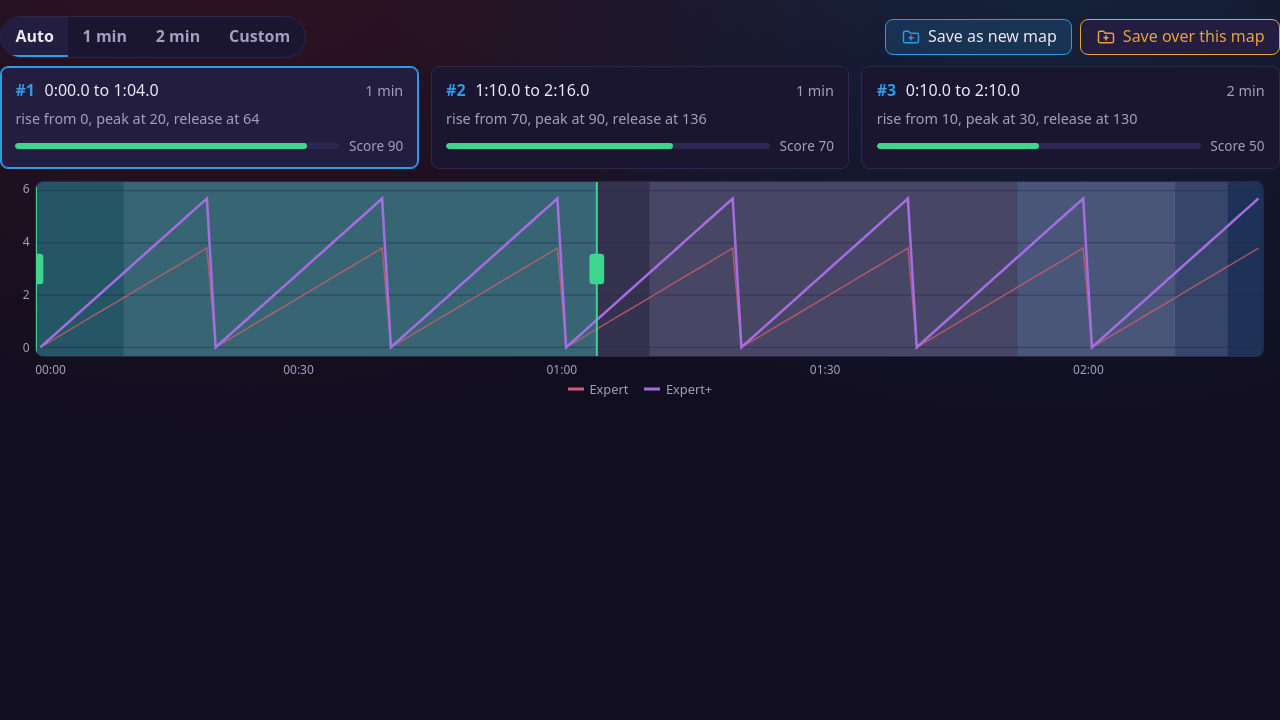
Scenario: Save over this map › Cancel posts nothing
This screenshot has width=1280, height=720.
Check: the slider labelled "Crop end" is shown, box x1=590 y1=182 x2=604 y2=356
Click the button "Save over this map".
click(1180, 37)  # box x1=1080 y1=19 x2=1279 y2=55
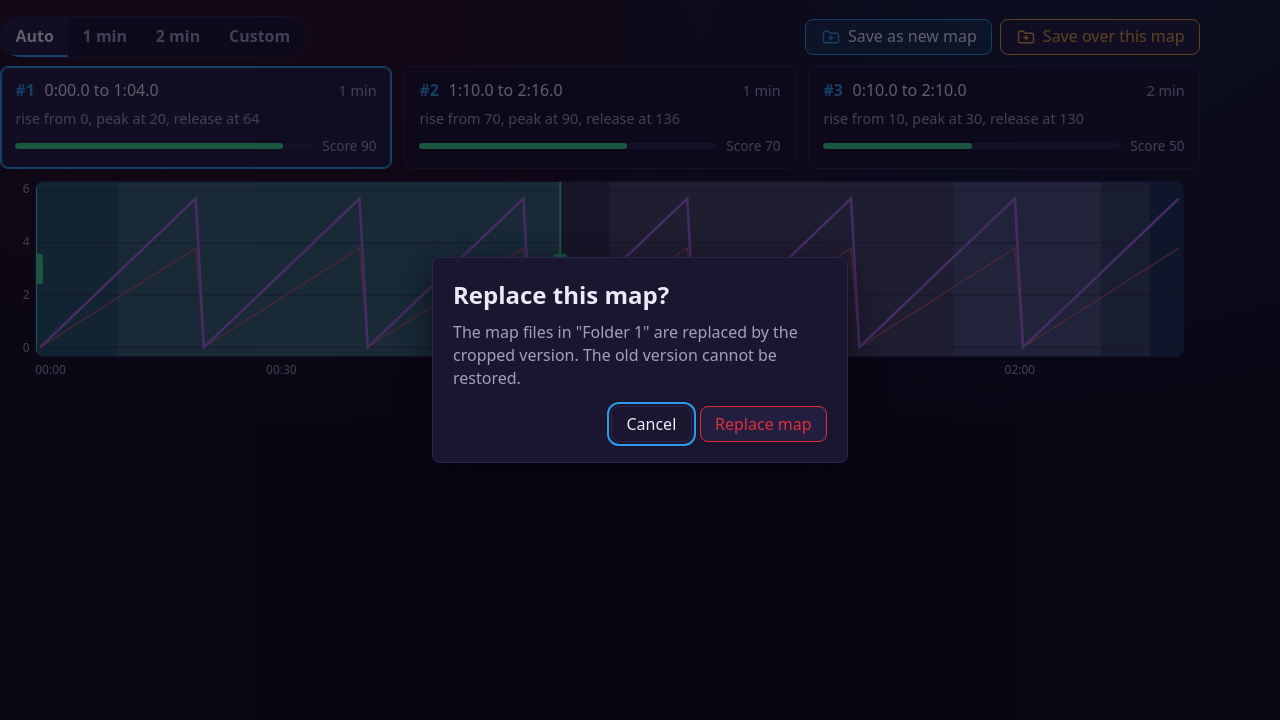
Click the button "Cancel".
click(651, 424)  # box x1=611 y1=406 x2=692 y2=442
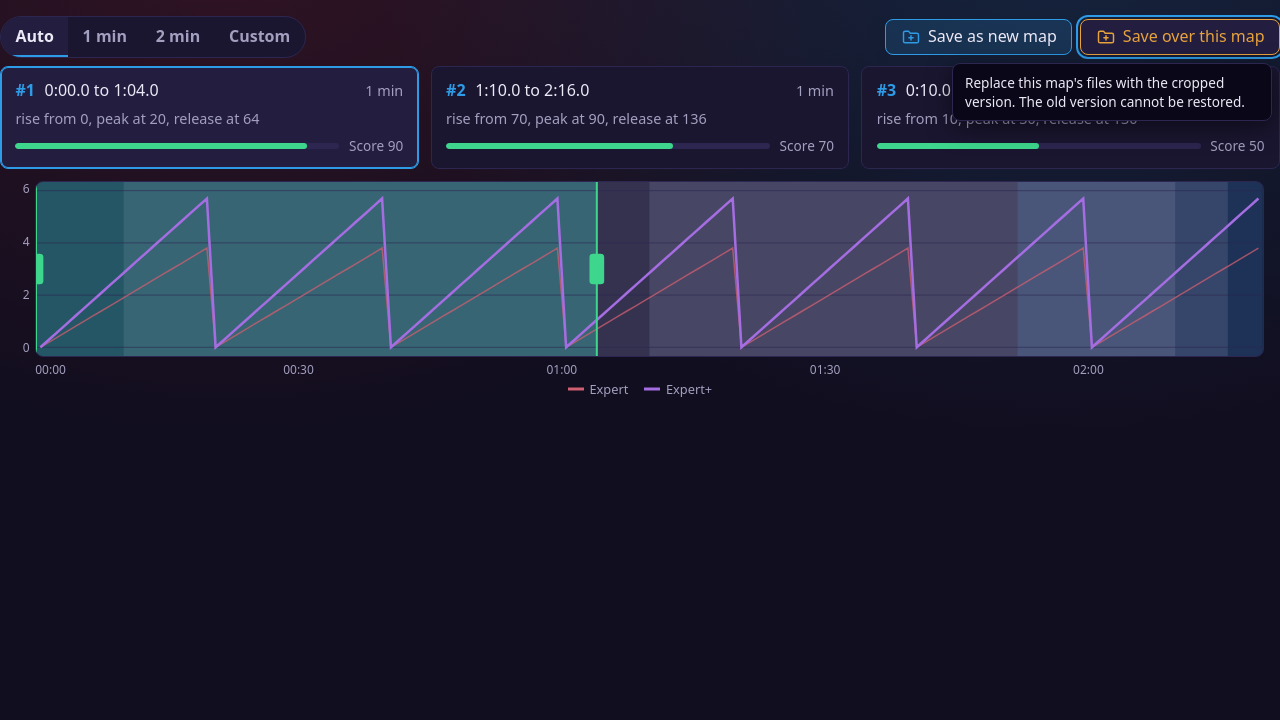
Check: the dialog is gone
